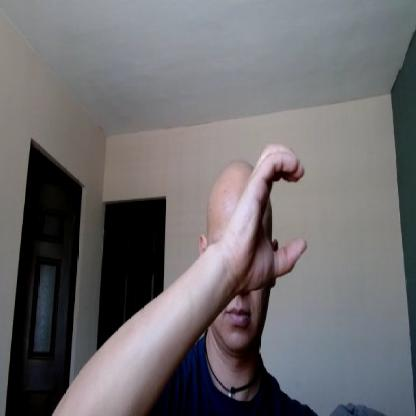C: (233, 144, 306, 290)
